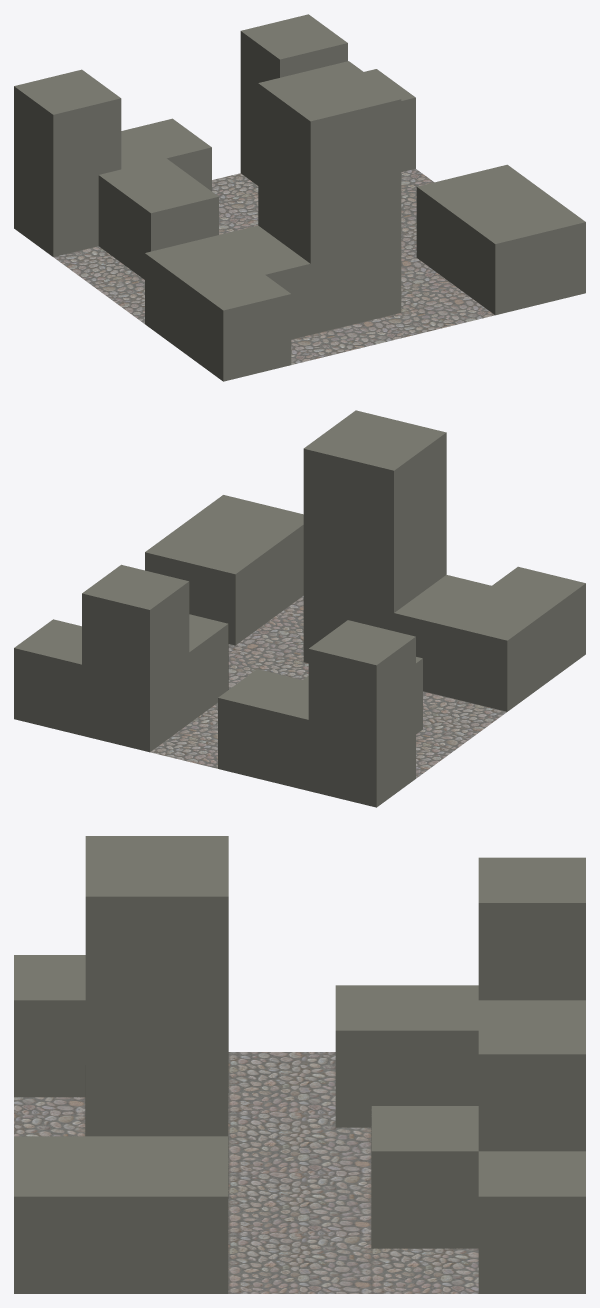
File: tile1.fbx
3 renders of one model, top to bottom at view 1: azimuth 30°, elevation 25°; view 2: azimuth 150°, elevation 25°; view 3: azimuth 270°, elevation 25°, orthographic. The views are drawn at different scales.
Parts seen in each view (by area): view 1: Tile1; view 2: Tile1; view 3: Tile1.
Part boxes in pixels (left/top/right/bottom): Tile1: left=14, top=14, right=585, bottom=381; Tile1: left=14, top=410, right=585, bottom=807; Tile1: left=14, top=836, right=585, bottom=1293.
Bounding box in the file's own units: 1600 × 900 × 1600.
